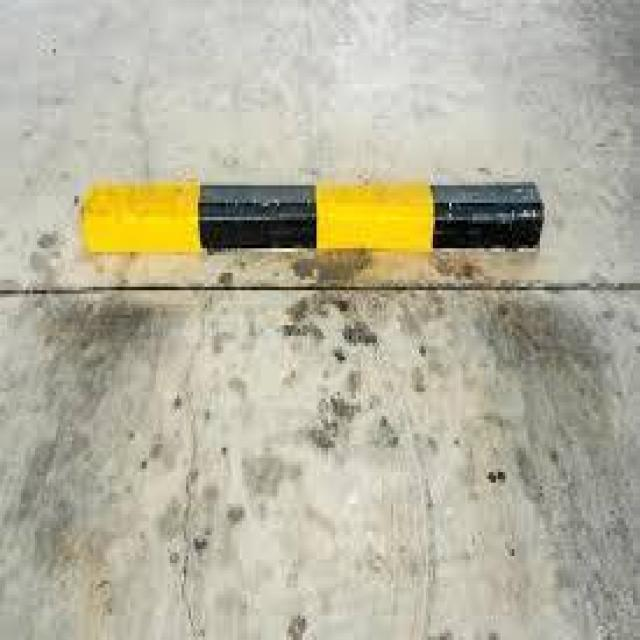bump: (64, 146, 574, 282)
